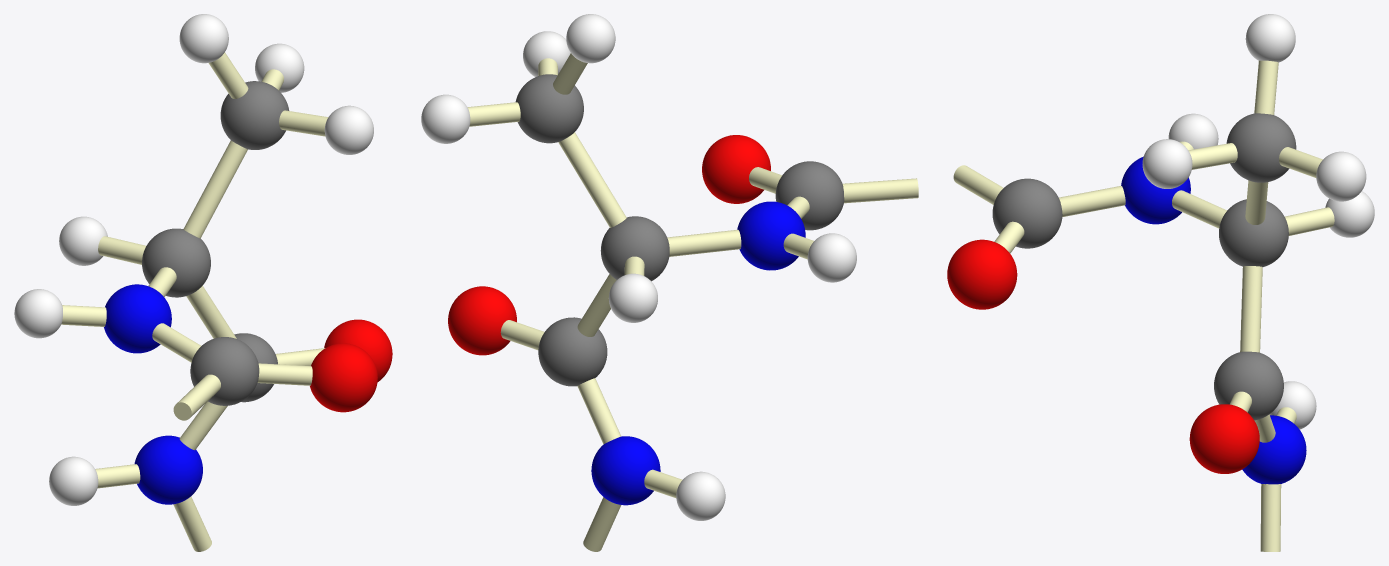
Rendered from conformation.gltf.
3 views of the same model, side by side, from view 1: azimuth 30°, elevation 25°; view 2: azimuth 150°, elevation 25°; view 3: azimuth 270°, elevation 25° (orthographic).
Visible parts, largest first — view 1: ?????????2, ?????????13, ?????????3, ?????????9, ?????????1, ?????????4, ?????????22, ?????????10, ?????????12, ?????????14, ?????????6, ?????????7 (+16 smaller); view 2: ?????????6, ?????????13, ?????????5, ?????????9, ?????????2, ?????????3, ?????????4, ?????????1, ?????????22, ?????????14, ?????????7, ?????????8 (+12 smaller); view 3: ?????????2, ?????????6, ?????????1, ?????????9, ?????????4, ?????????5, ?????????13, ?????????3, ?????????11, ?????????12, ?????????10, ?????????20 (+13 smaller).
Part boxes in pixels (left/top/right/bottom): ?????????2: left=310, top=343, right=377, bottom=412; ?????????13: left=134, top=435, right=202, bottom=504; ?????????3: left=104, top=284, right=171, bottom=353; ?????????9: left=220, top=81, right=289, bottom=149; ?????????1: left=190, top=337, right=259, bottom=405; ?????????4: left=142, top=228, right=210, bottom=297; ?????????22: left=183, top=140, right=247, bottom=238; ?????????10: left=179, top=14, right=228, bottom=63; ?????????12: left=324, top=105, right=373, bottom=154; ?????????14: left=49, top=456, right=98, bottom=505; ?????????6: left=324, top=319, right=392, bottom=382; ?????????7: left=14, top=289, right=62, bottom=338; ?????????6: left=448, top=286, right=516, bottom=355; ?????????13: left=591, top=436, right=660, bottom=505; ?????????5: left=538, top=317, right=607, bottom=386; ?????????9: left=515, top=74, right=583, bottom=143; ?????????2: left=702, top=135, right=770, bottom=203; ?????????3: left=737, top=201, right=805, bottom=270; ?????????4: left=600, top=216, right=669, bottom=281; ?????????1: left=775, top=161, right=844, bottom=230; ?????????22: left=558, top=132, right=626, bottom=227; ?????????14: left=676, top=471, right=725, bottom=520; ?????????7: left=807, top=233, right=856, bottom=282; ?????????8: left=608, top=273, right=657, bottom=322; ?????????2: left=947, top=239, right=1017, bottom=309; ?????????6: left=1189, top=404, right=1259, bottom=473; ?????????1: left=992, top=178, right=1062, bottom=248; ?????????9: left=1226, top=113, right=1296, bottom=182; ?????????4: left=1219, top=199, right=1288, bottom=266; ?????????5: left=1214, top=351, right=1283, bottom=420; ?????????13: left=1242, top=415, right=1306, bottom=484; ?????????3: left=1121, top=156, right=1190, bottom=224; ?????????11: left=1316, top=151, right=1366, bottom=201; ?????????12: left=1142, top=139, right=1192, bottom=188; ?????????10: left=1245, top=14, right=1295, bottom=62; ?????????20: left=1240, top=266, right=1262, bottom=352.
Bounding box in the file's own units: 45.09 × 59.48 × 42.72.
